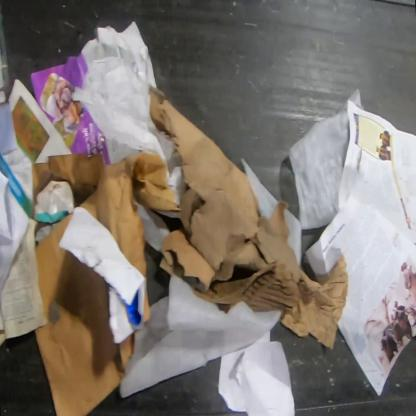cardboard: (149, 82, 300, 314), (35, 209, 138, 415), (79, 152, 181, 280), (278, 258, 350, 350), (32, 154, 104, 210)
